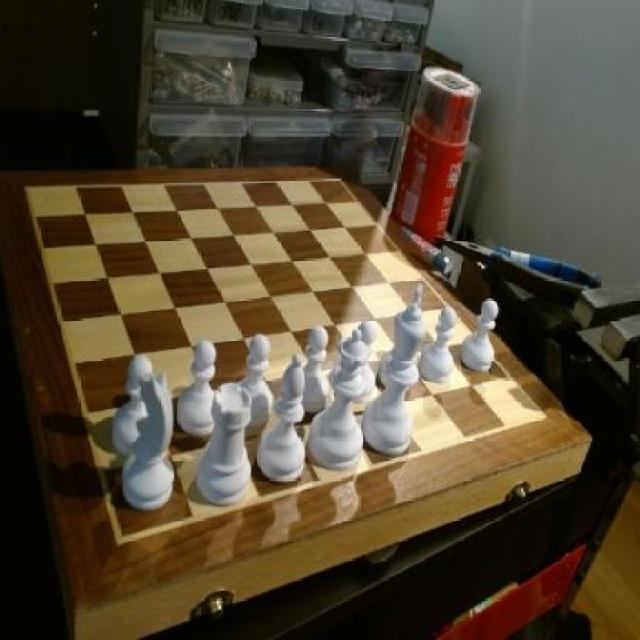black-rook: (256, 351, 308, 489)
white-bishop: (358, 283, 424, 456)
white-king: (119, 371, 176, 510)
white-knight: (111, 352, 161, 465), (177, 339, 223, 443), (412, 302, 461, 392), (235, 332, 278, 432), (294, 320, 337, 415), (460, 298, 503, 382), (343, 318, 378, 410)
white-pawn: (308, 326, 368, 476)
white-queen: (197, 376, 254, 508)
